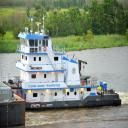tugboat: (1, 28, 123, 111)
